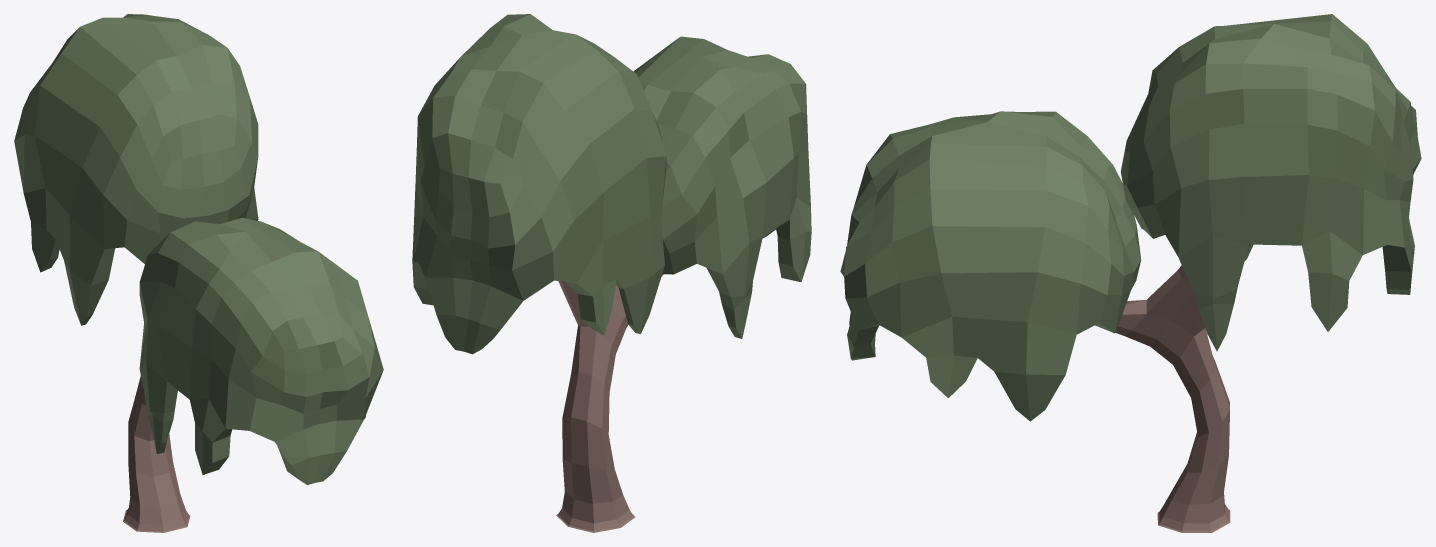
3 views of the same model, side by side, from view 1: azimuth 30°, elevation 25°; view 2: azimuth 150°, elevation 25°; view 3: azimuth 270°, elevation 25° (orthographic). The views are drawn at different scales.
Parts seen in each view (by area): view 1: Visual; view 2: Visual; view 3: Visual.
Part boxes in pixels (box(x1,y1,x2,y2)): Visual: box(14, 14, 383, 532); Visual: box(412, 14, 811, 532); Visual: box(840, 14, 1421, 532).
Size of the model in its own units: 7.53 by 18 by 18.56.
